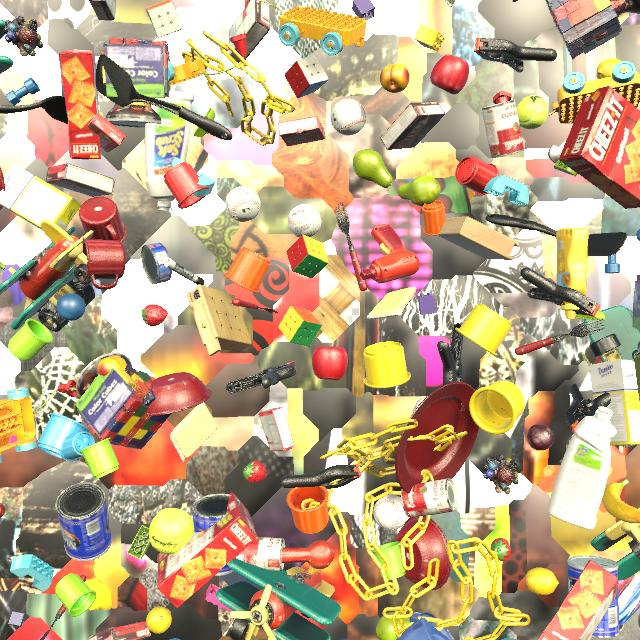ycb_002_master_chef_can: (56, 482, 112, 561), (567, 555, 620, 638), (192, 494, 240, 576)
ycb_003_cracker_box: (157, 492, 258, 609), (559, 86, 640, 209), (538, 560, 618, 640), (59, 49, 101, 159)
ycb_004_sugar_box: (0, 164, 81, 230), (589, 359, 640, 445)
ycb_005_tomato_soup_can: (482, 100, 525, 158), (401, 479, 459, 518), (235, 537, 285, 571)
ycb_006_mustard_bottle: (556, 227, 589, 319)
ycb_007_tuna_fish_can: (141, 243, 172, 285)
ycb_008_pudding_box: (380, 102, 446, 150), (229, 0, 270, 63), (46, 163, 115, 197), (88, 621, 151, 640), (89, 0, 116, 20)
ycb_009_gelatin_box: (259, 407, 295, 452), (87, 113, 127, 153), (278, 116, 325, 147)
ycb_010_potted_meat_can: (633, 354, 640, 399), (250, 638, 266, 640)
ycb_011_banana: (602, 479, 640, 524), (0, 262, 6, 270)
ycb_012_strawberry: (142, 304, 168, 327), (243, 461, 267, 483), (491, 538, 511, 561)
ycb_013_apple: (430, 54, 469, 95), (312, 346, 348, 380)
ycb_014_lemon: (525, 567, 559, 595), (146, 606, 172, 634), (596, 58, 623, 79)
ycb_015_peach: (380, 64, 410, 93), (97, 355, 127, 376)
ycb_016_pear: (353, 149, 393, 188), (398, 175, 441, 206), (376, 612, 409, 640), (253, 524, 254, 525)
ycb_018_plum: (527, 424, 554, 451)
